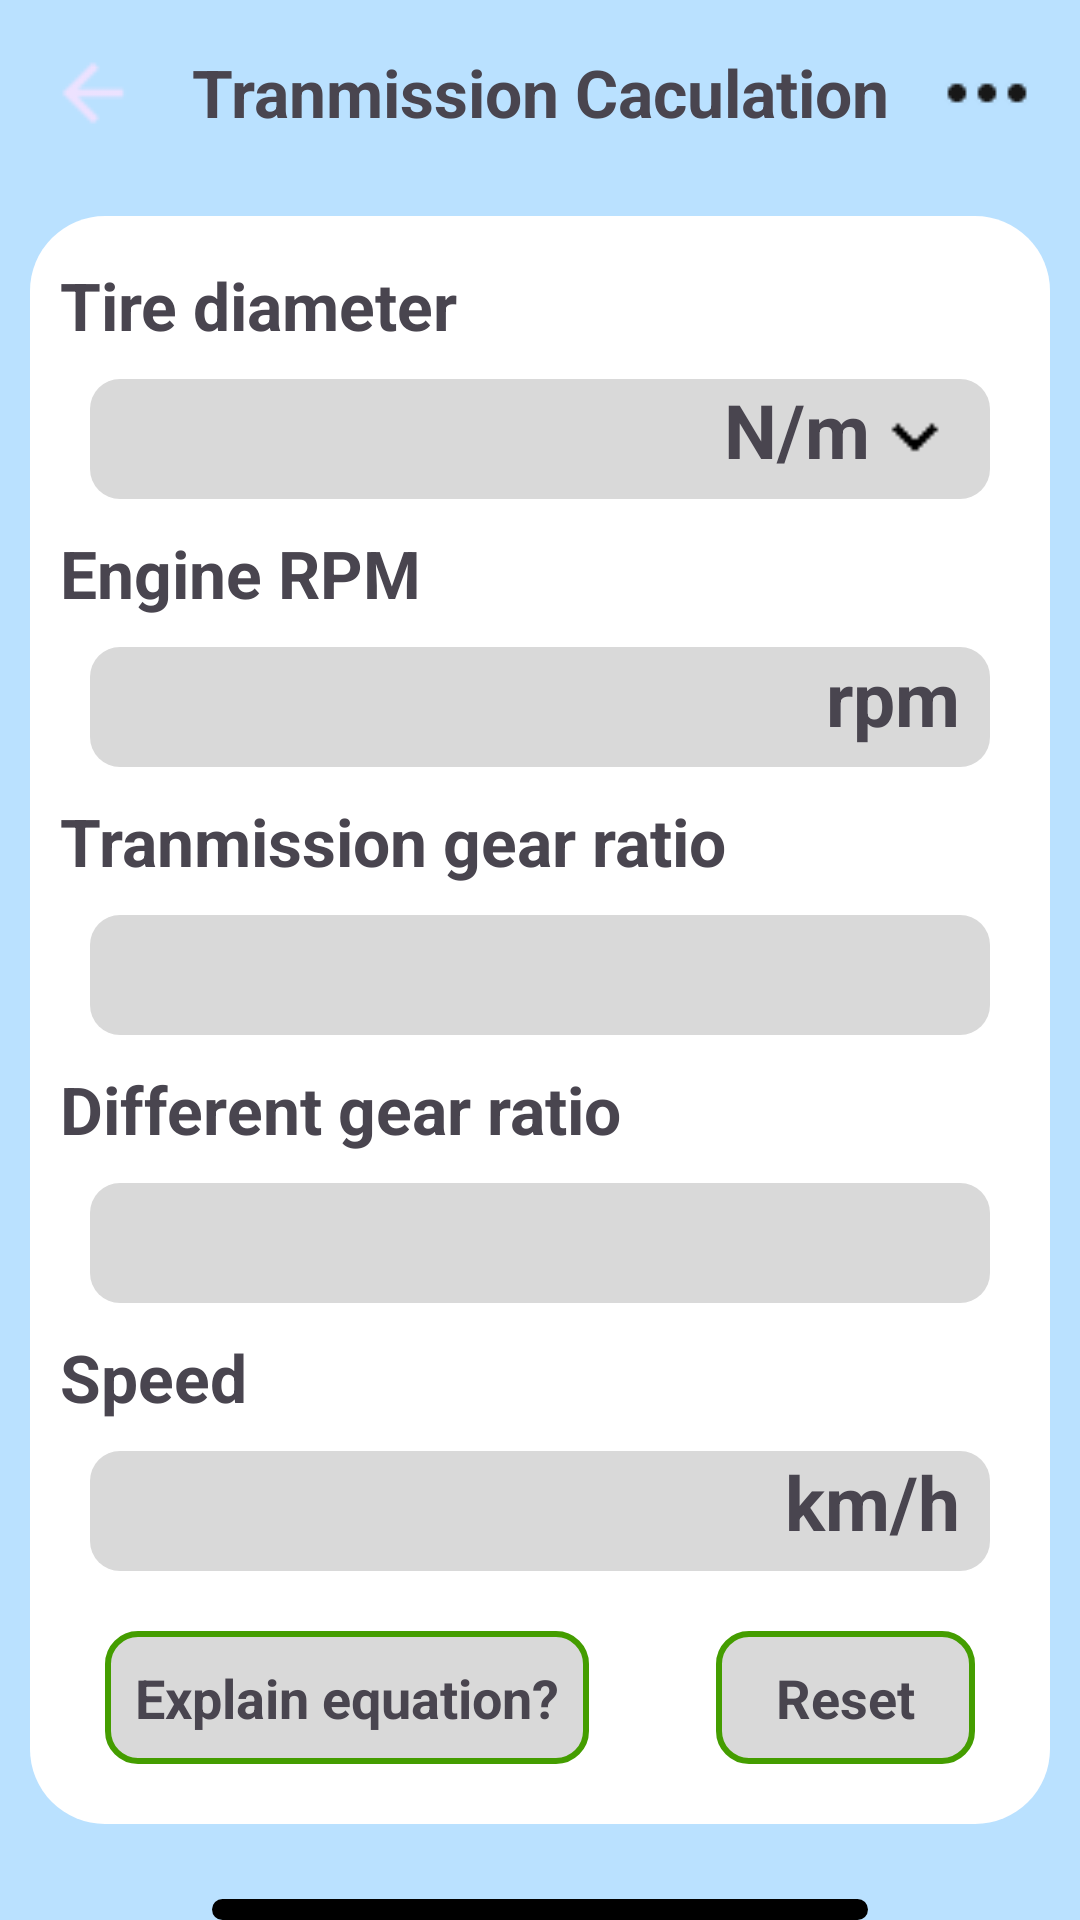

Named icons in this screenshot (1080px x 1920px) and their centers, [x,y]:
more: [987,93]
Quay lại: [93,93]
